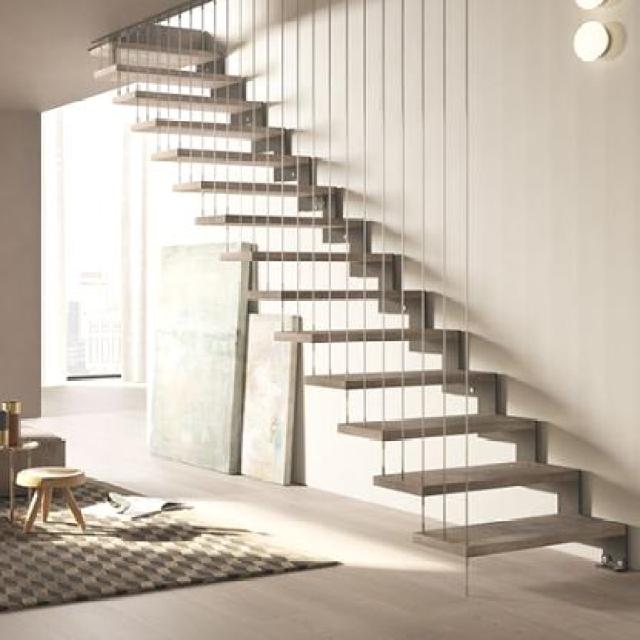stair: (88, 11, 640, 595)
